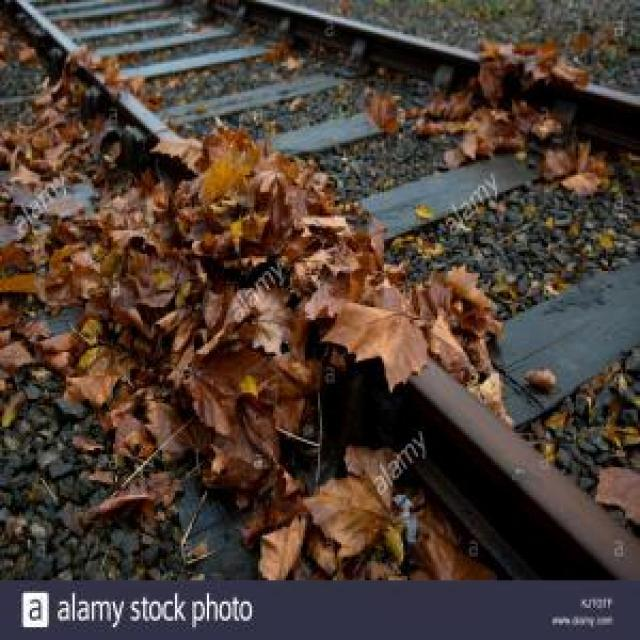rail: (1, 1, 640, 581)
